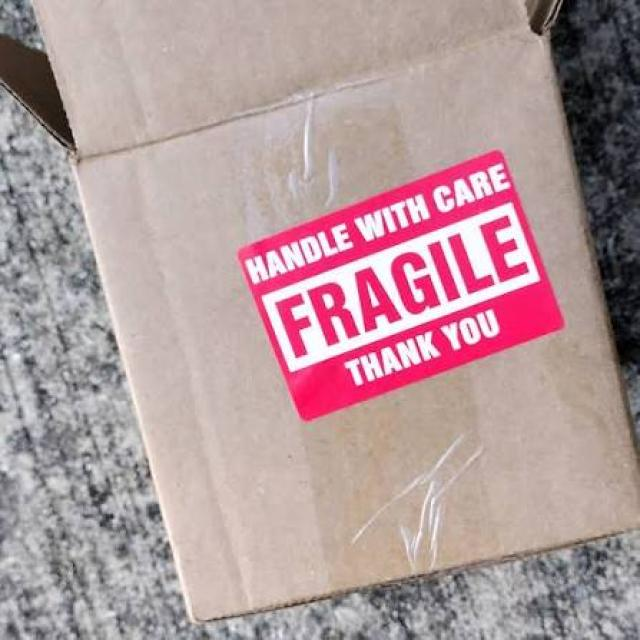carton_box: (32, 1, 640, 640)
fragile_label: (244, 153, 570, 401)
